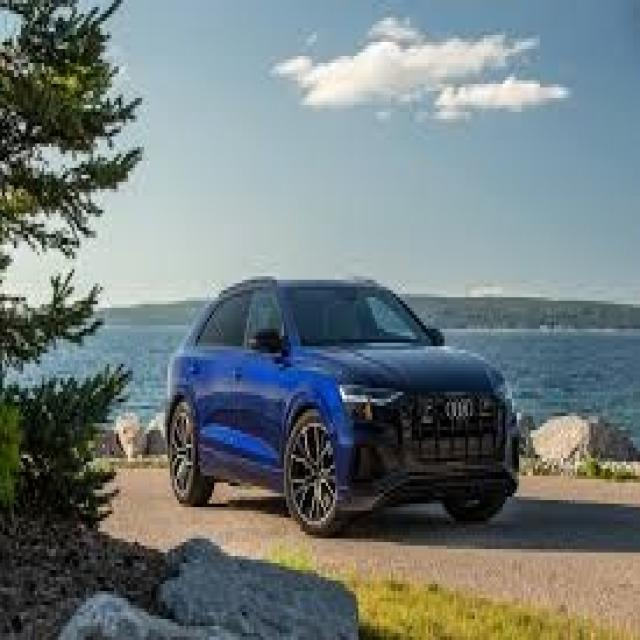blue: (165, 279, 521, 520)
